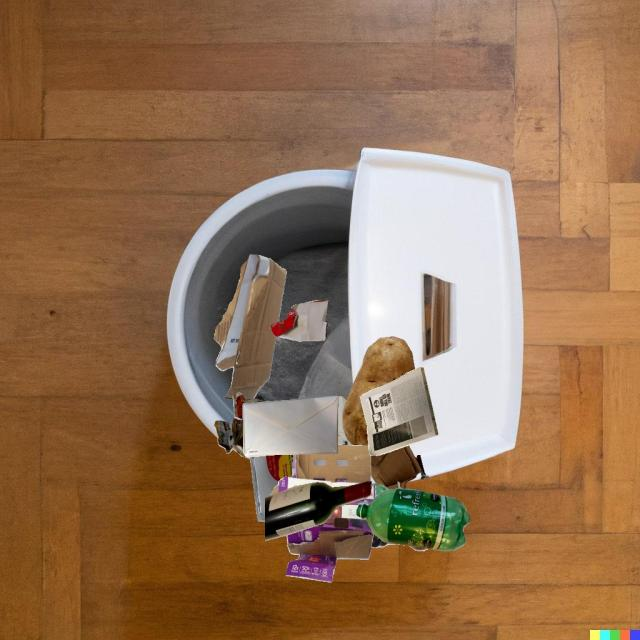biowaste: (342, 336, 415, 446)
cardboard: (214, 254, 287, 400), (286, 483, 376, 582), (270, 445, 371, 496), (371, 445, 429, 489), (338, 396, 354, 445)
glass: (265, 481, 372, 541), (371, 534, 404, 548), (409, 546, 428, 551)
paper: (360, 367, 438, 456), (243, 396, 339, 457), (214, 392, 265, 458), (271, 300, 329, 341)
plastic: (357, 488, 470, 551), (250, 455, 293, 522), (372, 483, 388, 497)
